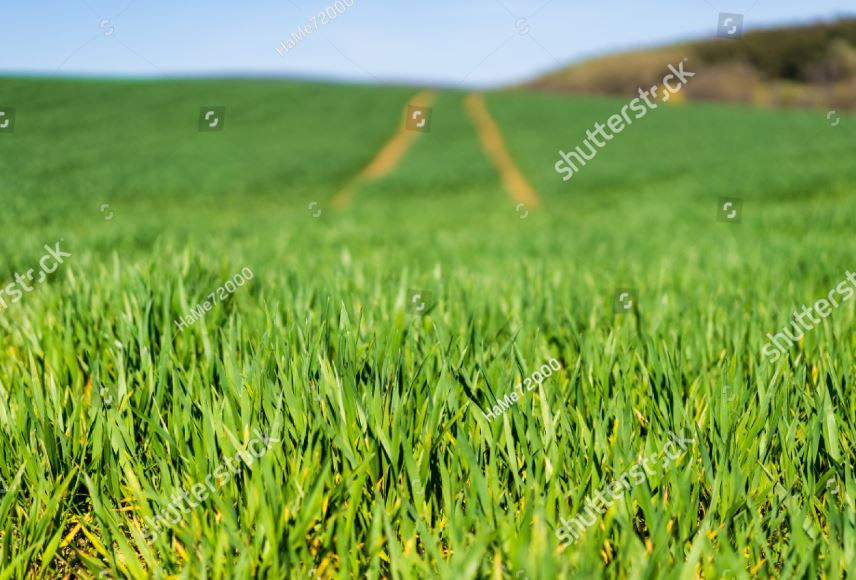Wheat: (107, 286, 653, 551)
